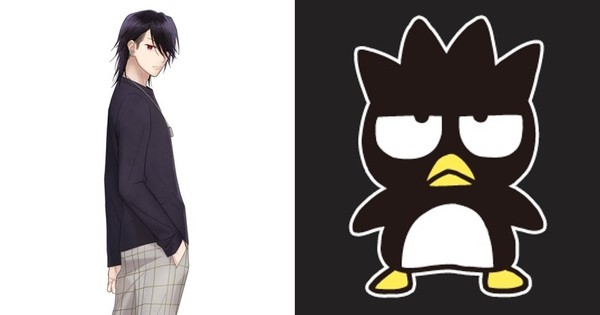batsumaru: (352, 10, 547, 296)
